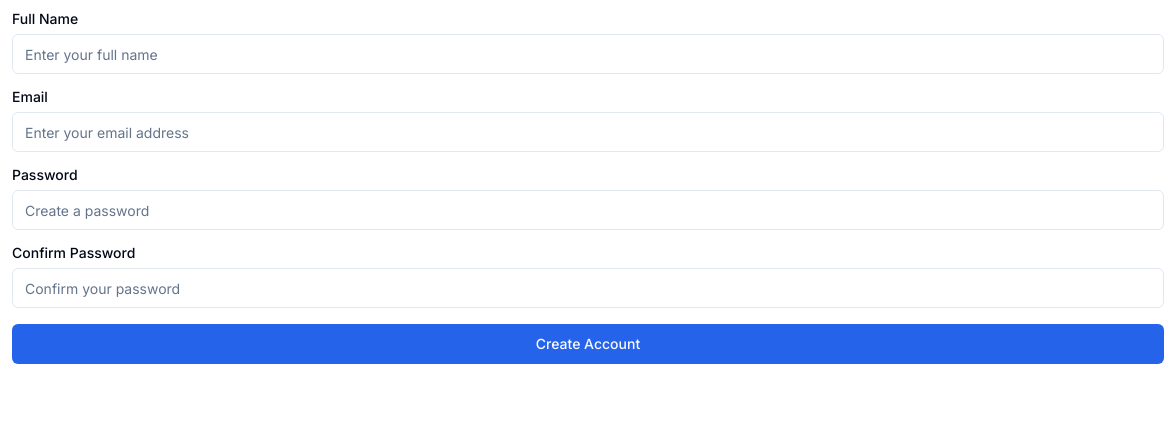
Test: RegistrationForm › should show error message for duplicate email
The image size is (1176, 441).
Note: Fill form with existing email
Type "John Doe" into the field labelled "Full Name" at (588, 54), box [12,34,1164,74]
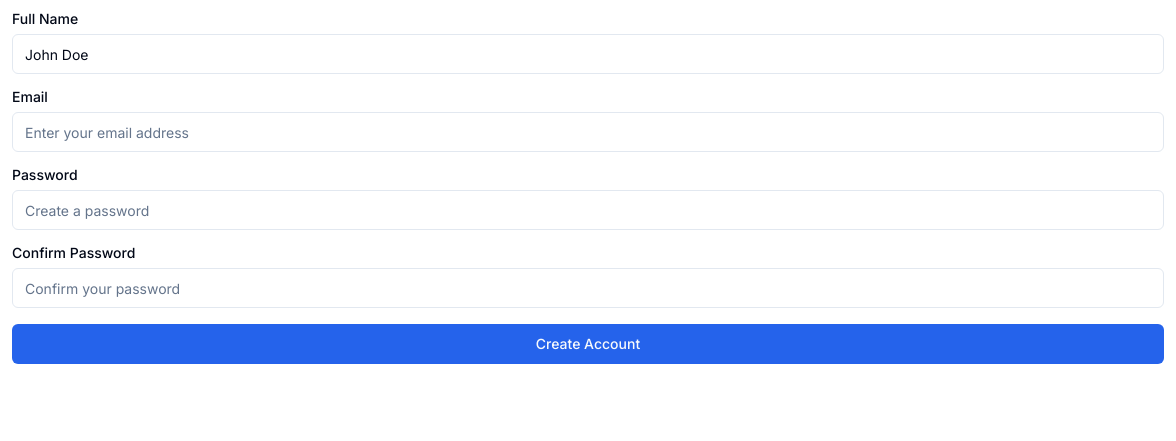
Type "existing@example.com" into the field labelled "Email" at (588, 132), box [12,112,1164,152]
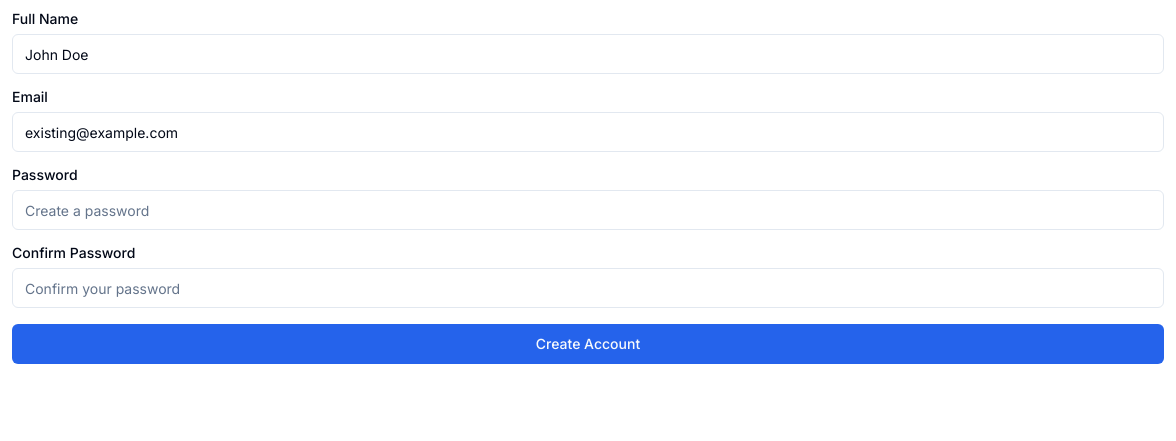
Type "StrongPass123" into the password field labelled "Password" at (588, 210), box [12,190,1164,230]
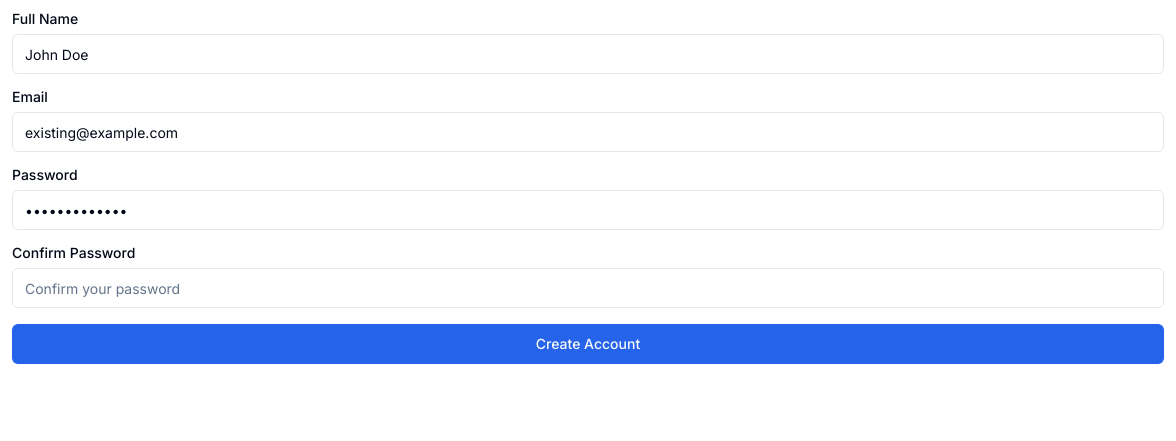
Type "StrongPass123" into the password field labelled "Confirm Password" at (588, 288), box [12,268,1164,308]
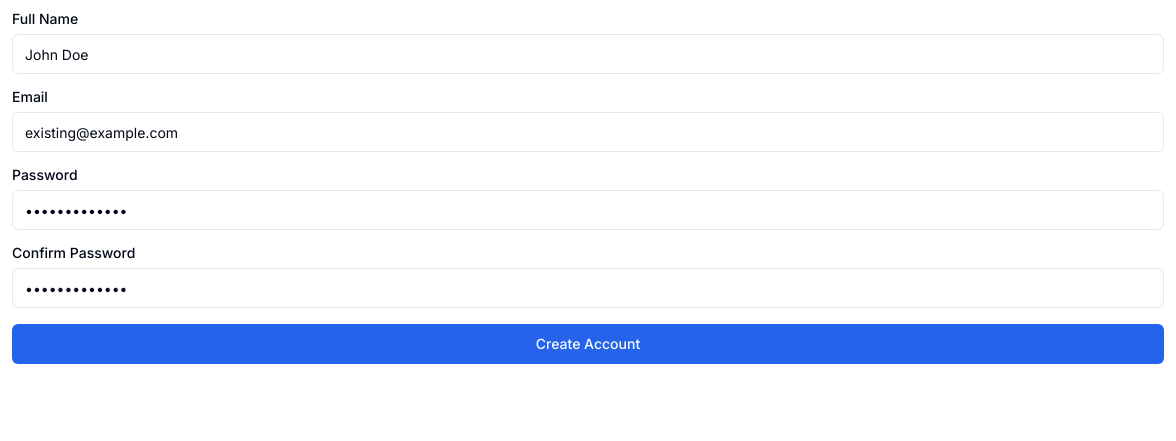
Click the button "Create Account" at (588, 344), box [12,324,1164,364]
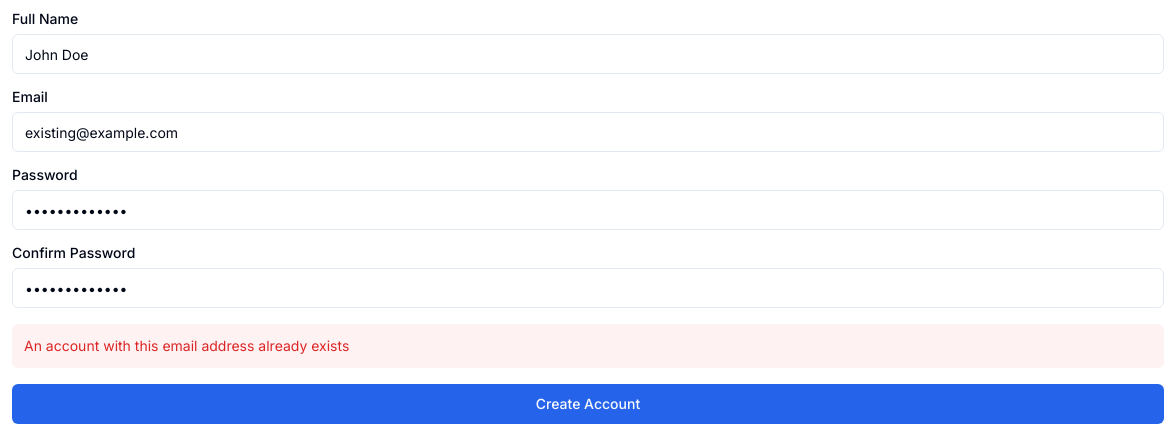
Result: the text "An account with this email address already exists" is shown at [12,324,1164,368]
